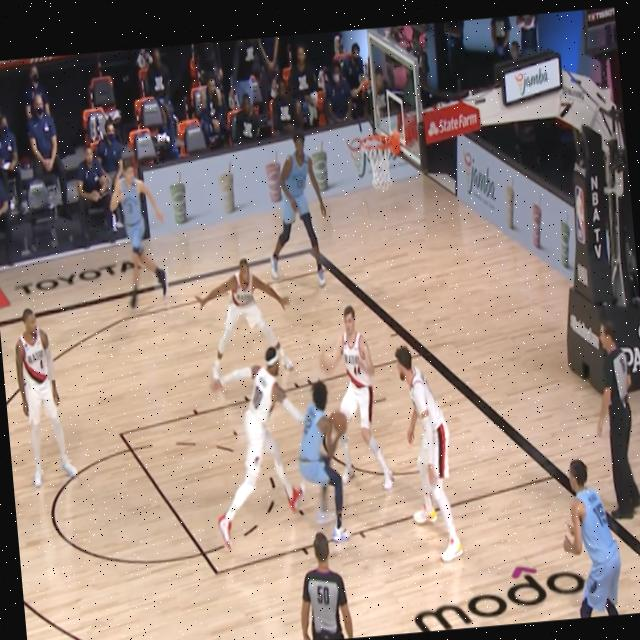no foul: (212, 344, 307, 552), (313, 283, 396, 496), (289, 354, 358, 547)
